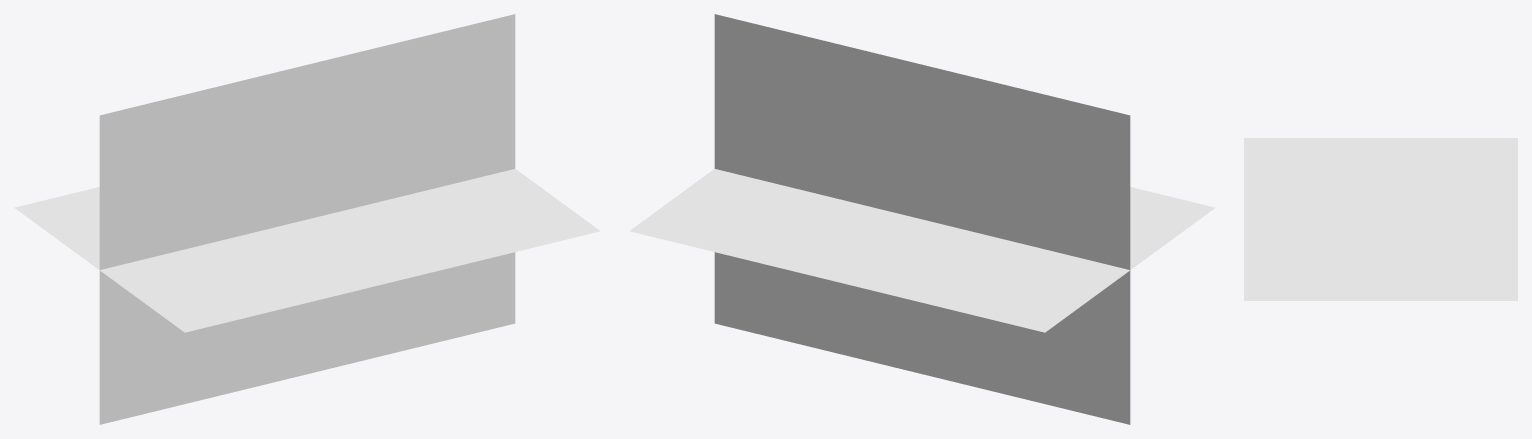
Rendered from muzzle.fbx.
3 renders of one model, left to right at view 1: azimuth 30°, elevation 25°; view 2: azimuth 150°, elevation 25°; view 3: azimuth 270°, elevation 25°, orthographic. The views are drawn at different scales.
Parts seen in each view (by area): view 1: muzzle; view 2: muzzle; view 3: muzzle.
Part boxes in pixels (<box>): muzzle: <box>14,14,600,424</box>; muzzle: <box>629,14,1215,424</box>; muzzle: <box>1244,138,1517,300</box>.
Bounding box in the file's own units: 1.12 × 0.8 × 0.8.
Materials: 1 (1 with a texture image).
